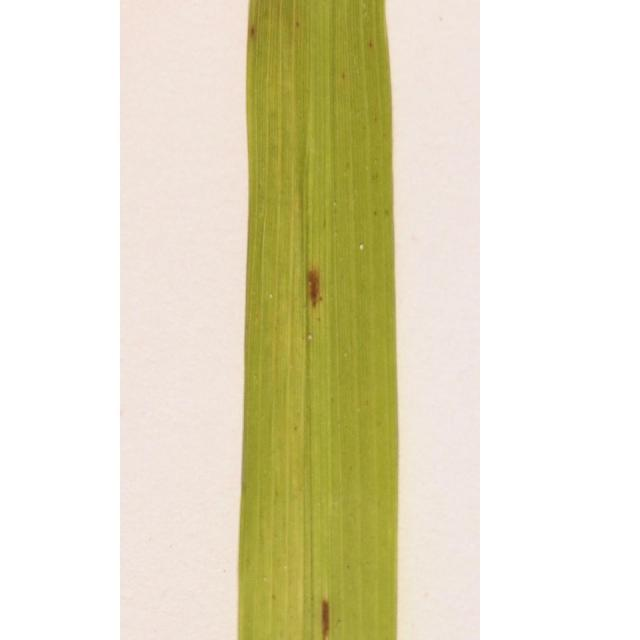Brown spot: (294, 261, 332, 318), (315, 594, 344, 640), (247, 23, 260, 44), (290, 13, 300, 35), (337, 67, 348, 83), (367, 206, 378, 222), (370, 112, 381, 128), (367, 33, 375, 52), (381, 203, 390, 219)
